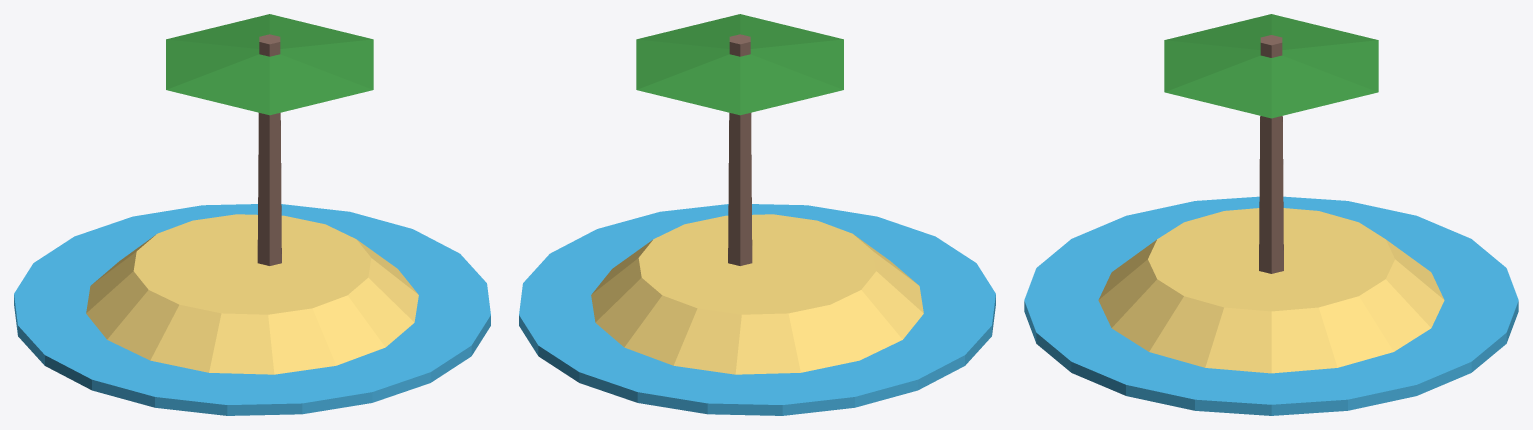
Rendered from o-holme.glb.
3 views of the same model, side by side, from view 1: azimuth 30°, elevation 25°; view 2: azimuth 150°, elevation 25°; view 3: azimuth 270°, elevation 25° (orthographic). The views are drawn at different scales.
Parts seen in each view (by area): view 1: o; view 2: o; view 3: o.
Boxes of the visible parts, x1,y1,x2,y2 form: o: [14, 14, 490, 415]; o: [519, 14, 995, 415]; o: [1024, 14, 1518, 415].
Size of the model in its own units: 1.2 by 0.82 by 1.2.
